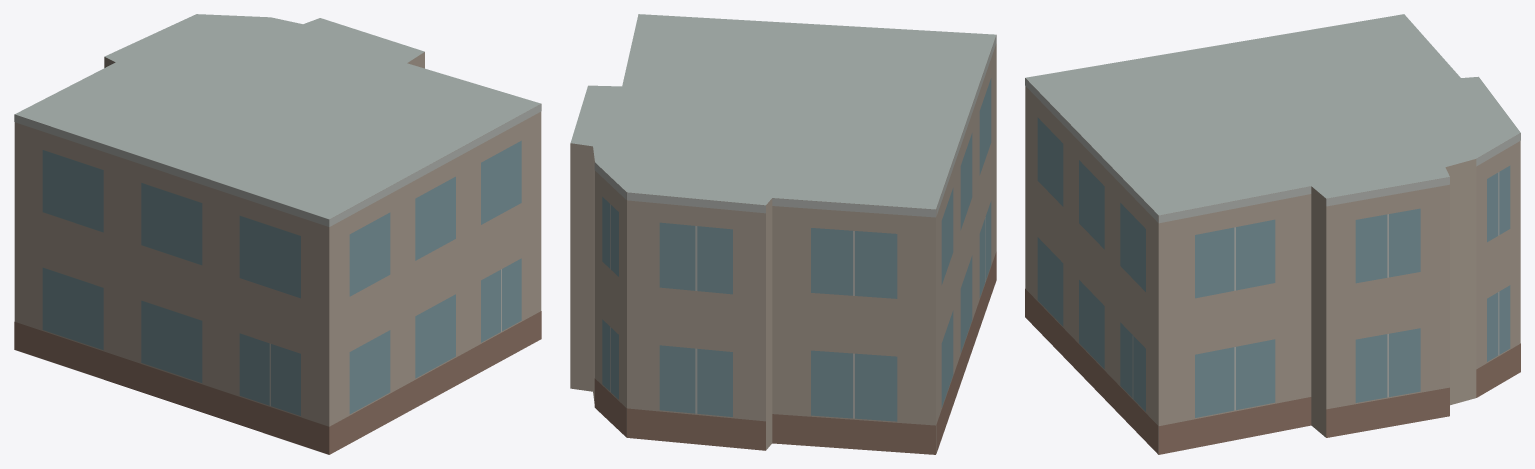
File: survey-upis-32858191.glb
3 renders of one model, left to right at view 1: azimuth 30°, elevation 25°; view 2: azimuth 150°, elevation 25°; view 3: azimuth 270°, elevation 25°, orthographic. The views are drawn at different scales.
Visible parts, largest first — view 1: survey-upis-32858191.tmp; view 2: survey-upis-32858191.tmp; view 3: survey-upis-32858191.tmp.
Part boxes in pixels (<box>): survey-upis-32858191.tmp: <box>14,14,541,454</box>; survey-upis-32858191.tmp: <box>570,14,996,454</box>; survey-upis-32858191.tmp: <box>1025,14,1520,454</box>.
Size of the model in its own units: 13.46 by 7.45 by 13.99.
